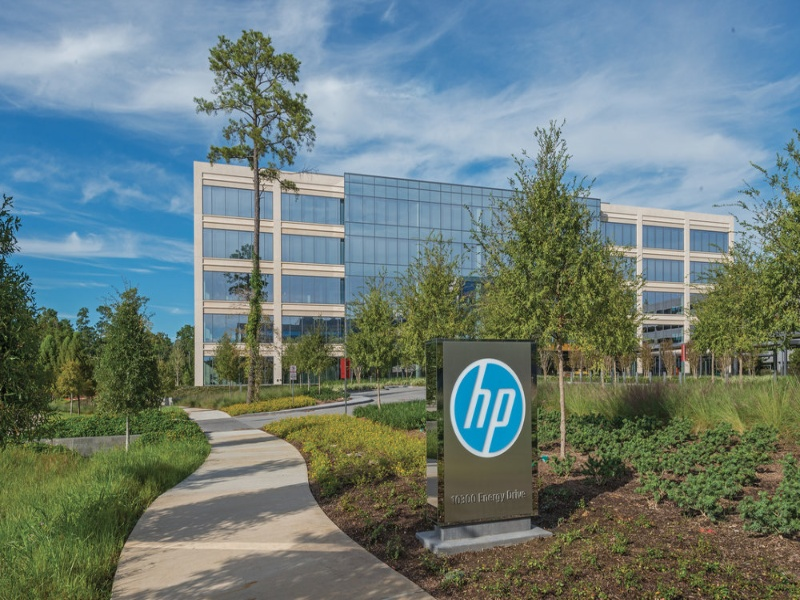hp: (459, 362, 518, 456)
